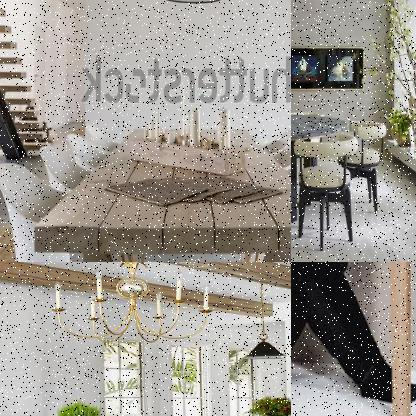table: (32, 124, 290, 261), (291, 262, 415, 415), (291, 109, 350, 228)
